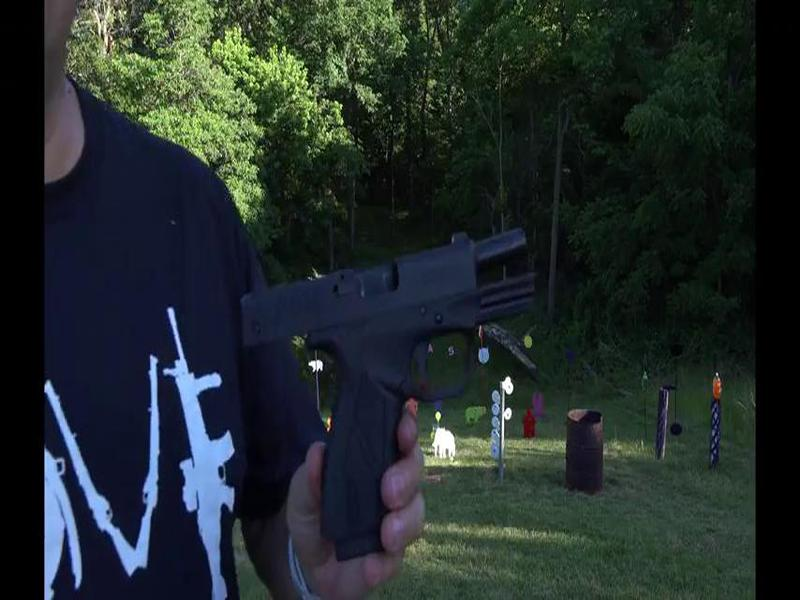Pistola: (230, 223, 533, 549)
